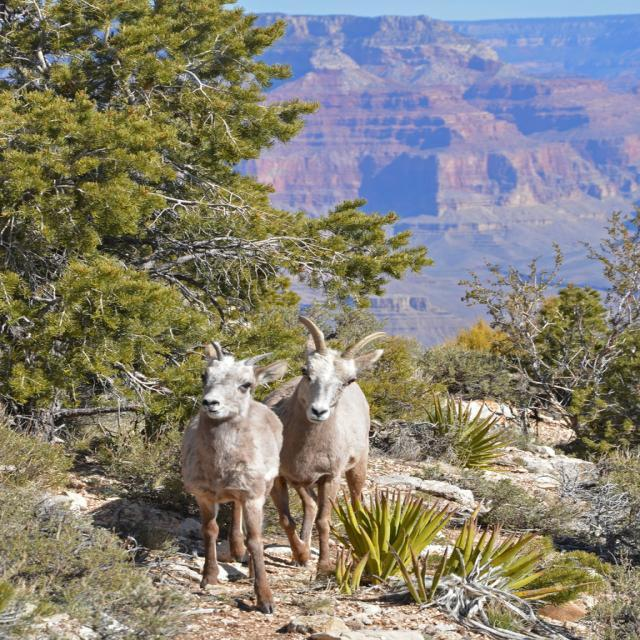Goat: (262, 315, 388, 577), (179, 339, 291, 613)
